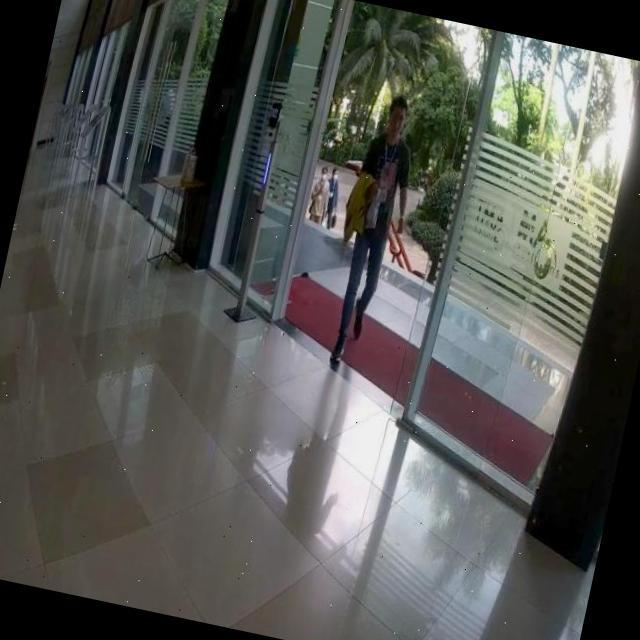person: (318, 87, 429, 376), (304, 163, 332, 224), (318, 166, 344, 227)
